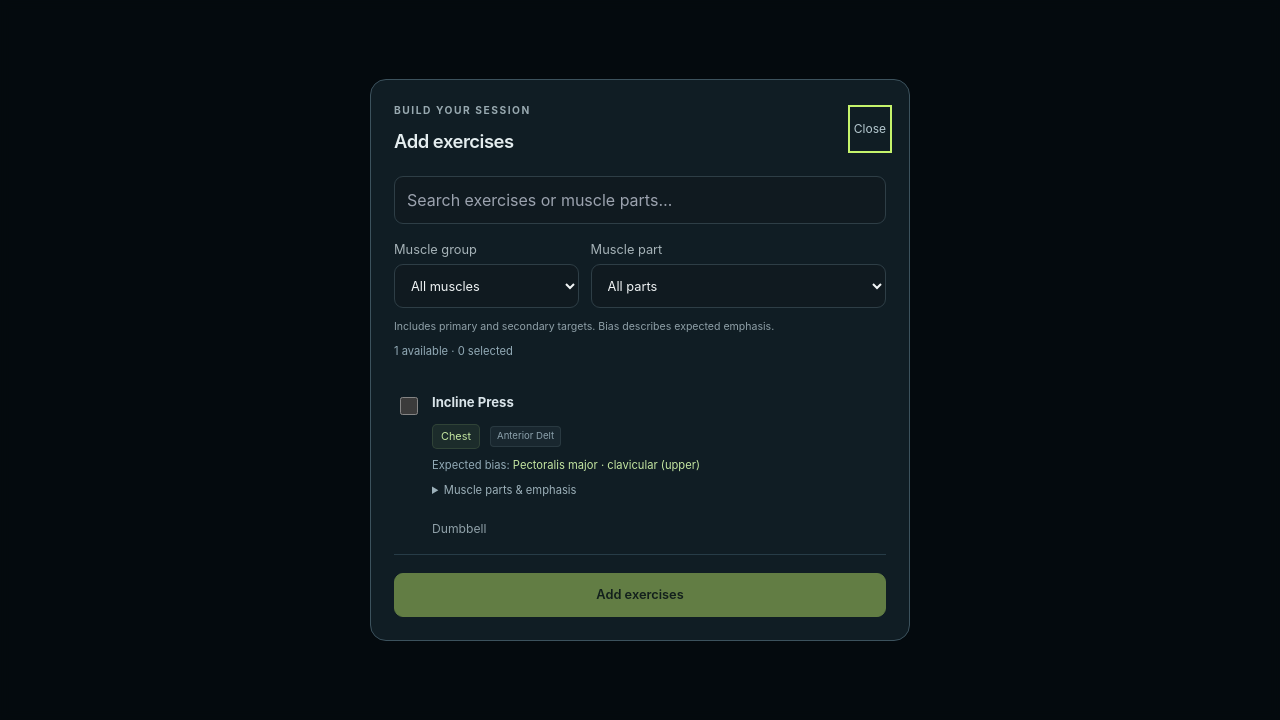
Scenario: exercise muscle filtering › lets people inspect parts without selecting the exercise
This screenshot has width=1280, height=720.
Click the heading "Muscle parts & emphasis".
click(510, 490)  # box [444,483,576,497]
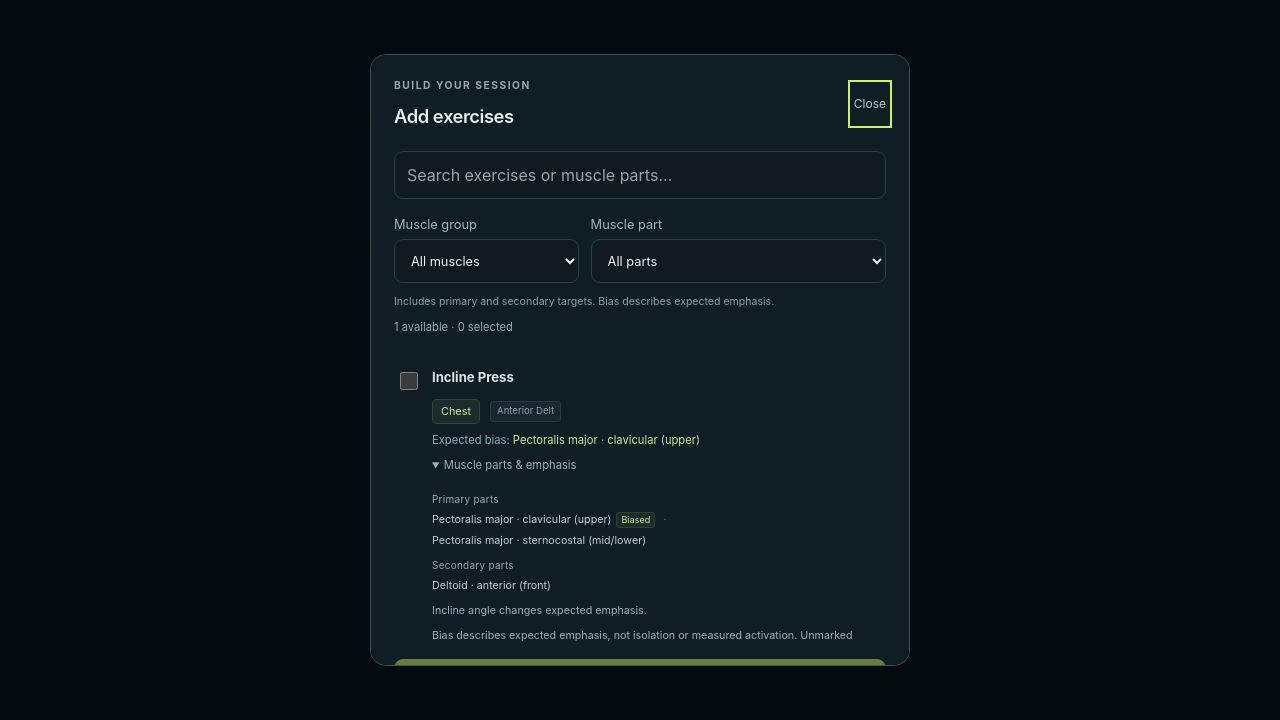
Expected: the checkbox labelled "Incline Press" is not checked, [400,372,418,390]
Result: the text "Primary parts" is shown at [432,493,499,505]
Result: the text "Secondary parts" is shown at [432,559,514,571]
